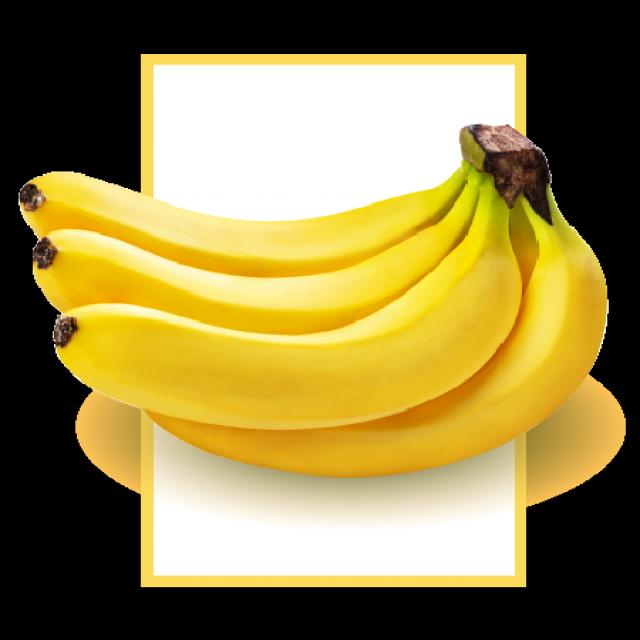banana: (17, 114, 612, 482)
